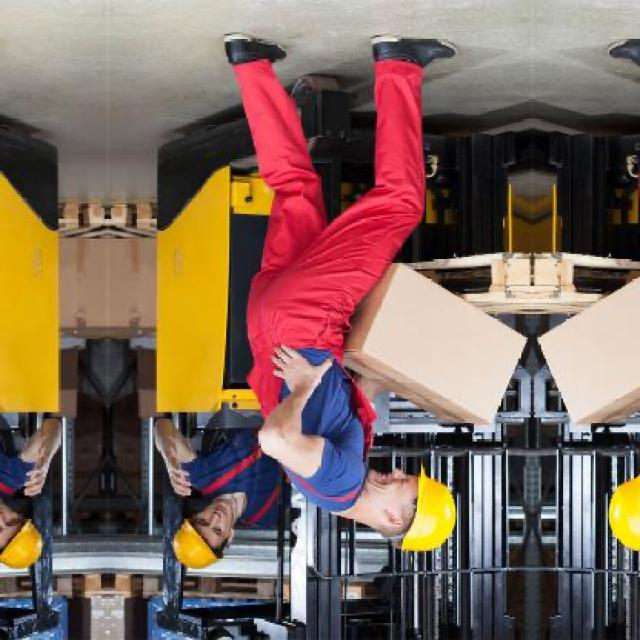con casco: (295, 398, 439, 566), (156, 486, 246, 566)
